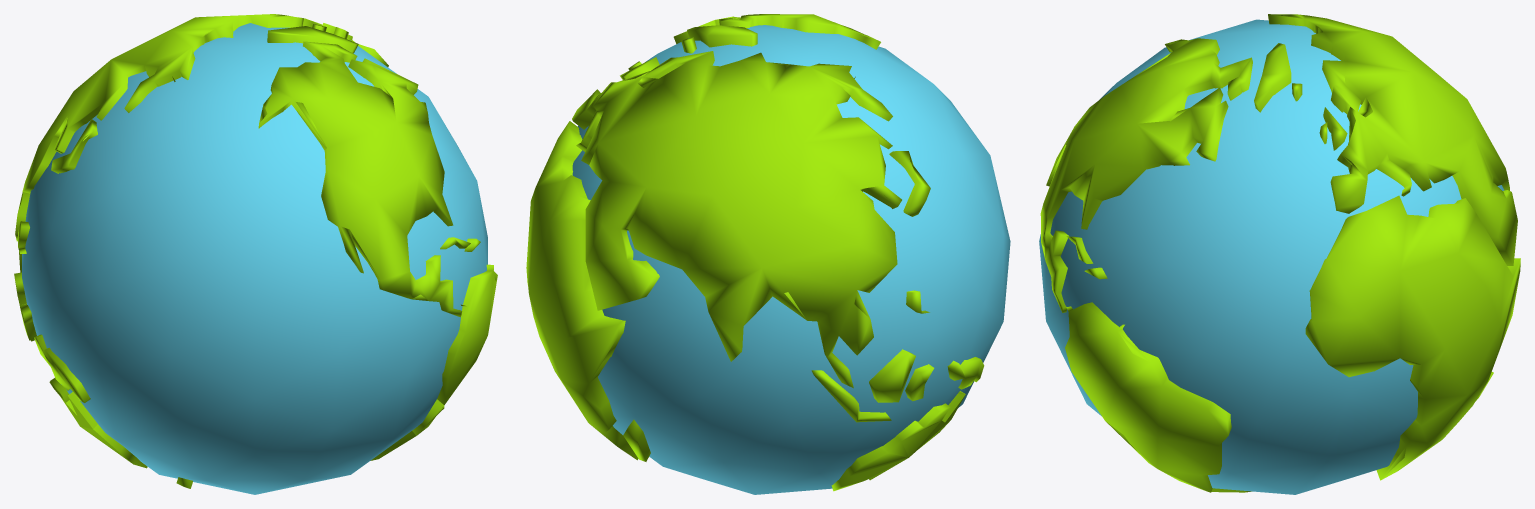
The model's file is earth.glb.
3 views of the same model, side by side, from view 1: azimuth 30°, elevation 25°; view 2: azimuth 150°, elevation 25°; view 3: azimuth 270°, elevation 25° (orthographic).
Parts seen in each view (by area): view 1: EarthSphere, EarthContinents; view 2: EarthContinents, EarthSphere; view 3: EarthContinents, EarthSphere.
Part boxes in pixels (x1,y1,x2,y2): EarthSphere: (22,23,487,494); EarthContinents: (14,14,497,488); EarthContinents: (526,14,984,491); EarthSphere: (572,25,1010,494); EarthContinents: (1040,14,1520,492); EarthSphere: (1039,19,1504,494).
Bounding box in the file's own units: 65.19 × 65.27 × 64.89.
